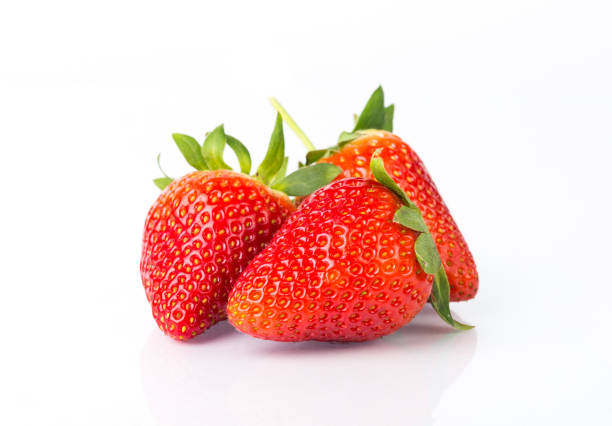Fresa: (220, 176, 444, 355), (304, 121, 483, 311), (135, 160, 306, 353)
